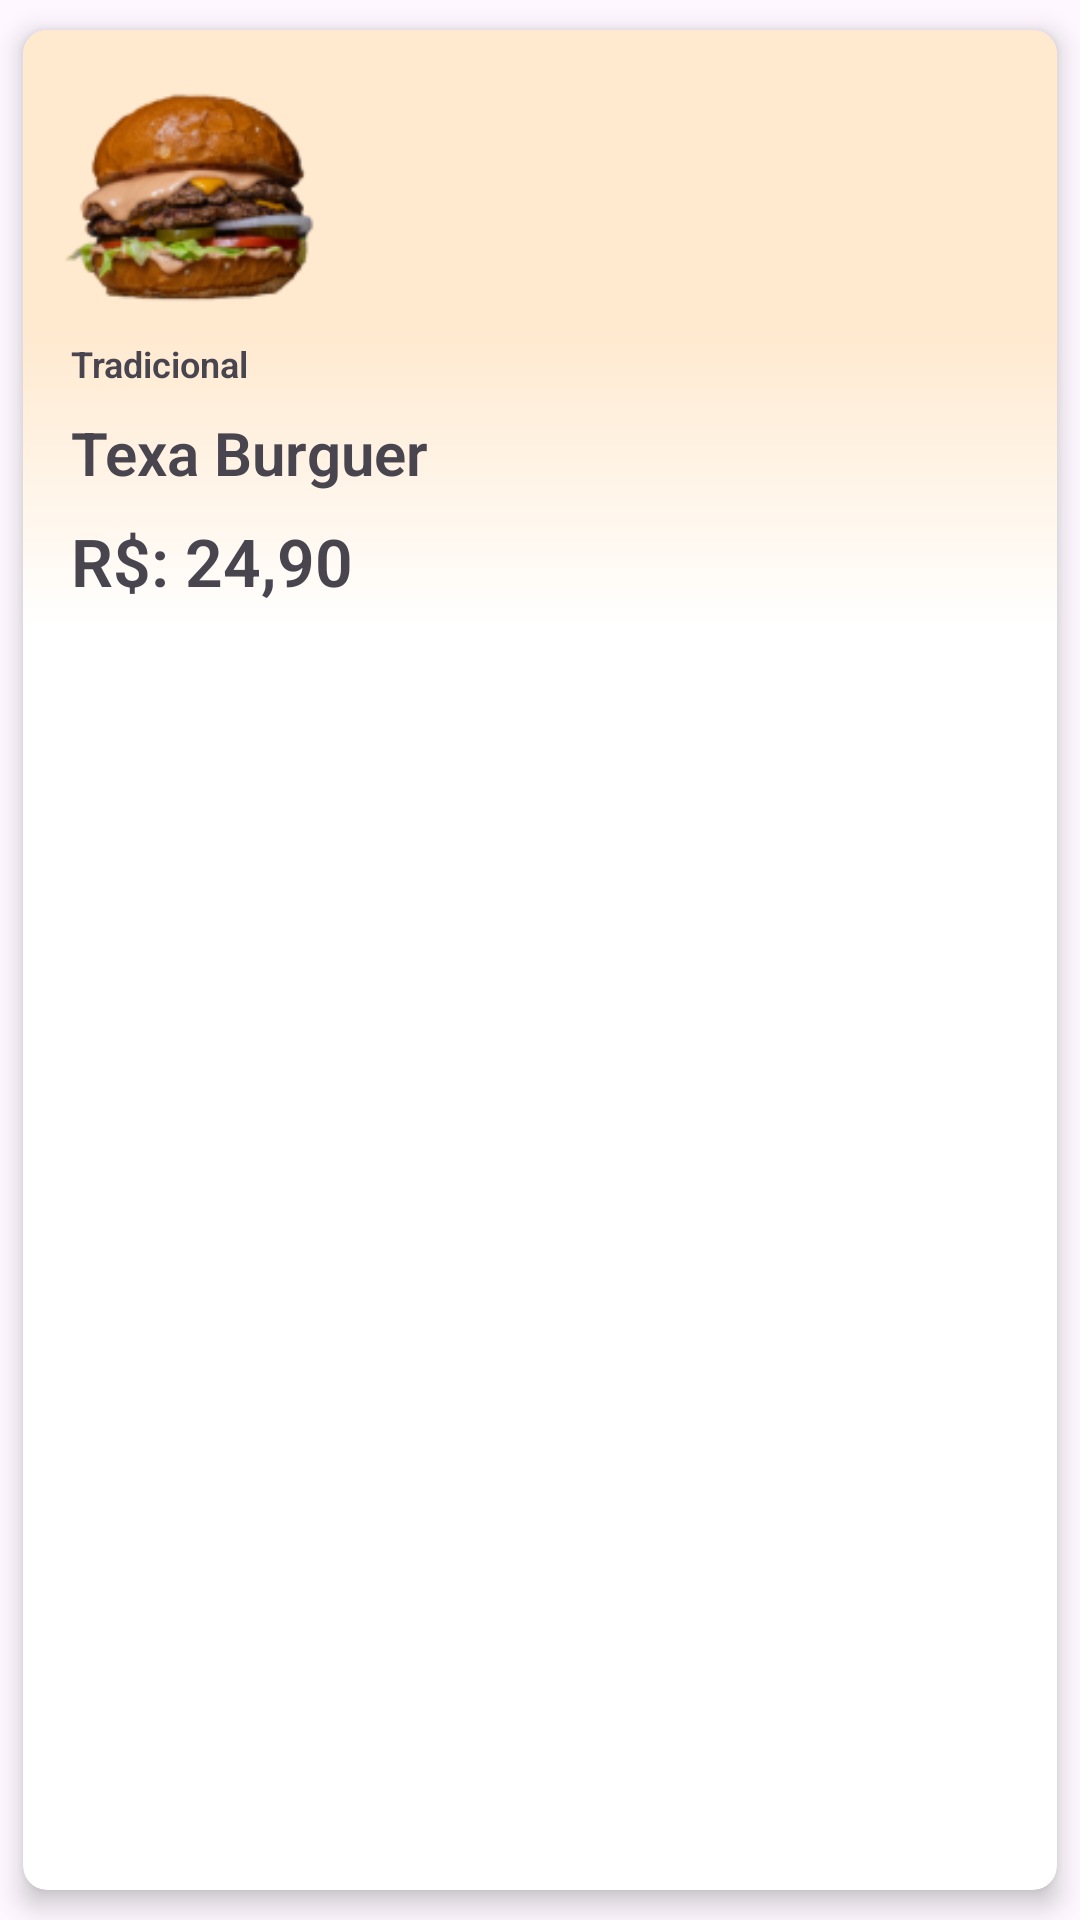

Point at icon controls on the screen. Image size 1080x1920, points as (x,y).
texas burger: (189,197)
